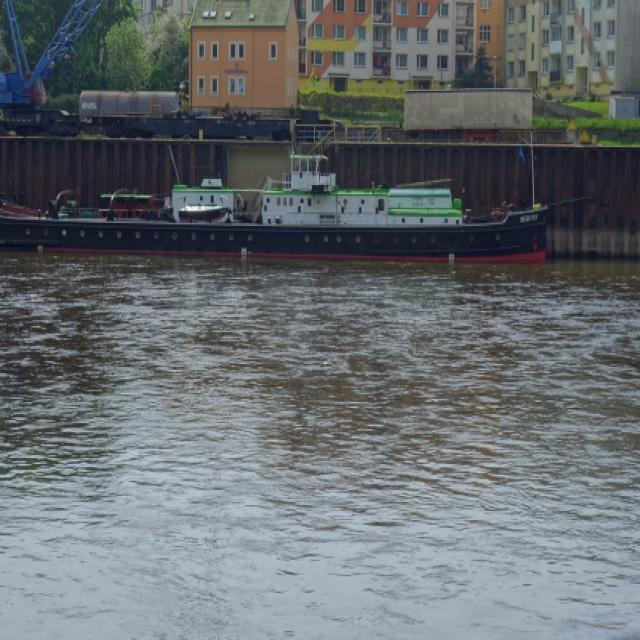tugboat: (1, 151, 561, 274)
